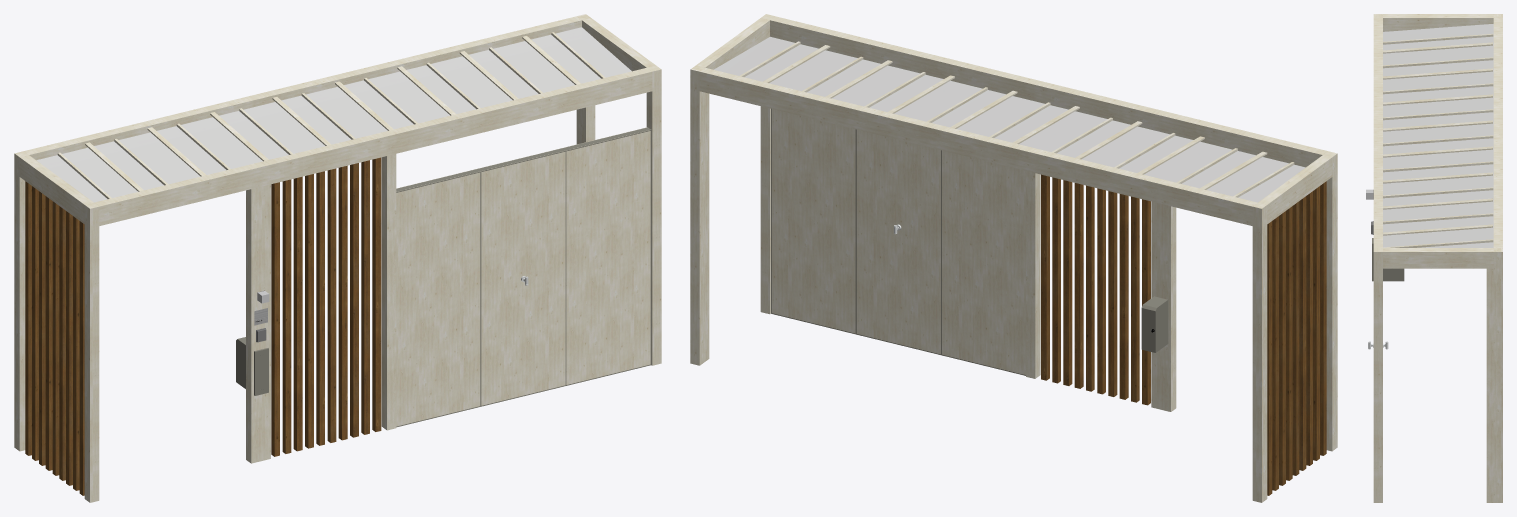
Rendered from hy18-e_whitepine.fbx.
3 views of the same model, side by side, from view 1: azimuth 30°, elevation 25°; view 2: azimuth 150°, elevation 25°; view 3: azimuth 270°, elevation 25° (orthographic). The views are drawn at different scales.
Parts seen in each view (by area): view 1: hy18-e_whitepine; view 2: hy18-e_whitepine; view 3: hy18-e_whitepine.
Part boxes in pixels (x1,y1,x2,y2): hy18-e_whitepine: [14, 14, 661, 502]; hy18-e_whitepine: [690, 14, 1337, 502]; hy18-e_whitepine: [1366, 14, 1502, 502].
Bounding box in the file's own units: 610 × 300 × 148.
21 materials, 10 textured.
